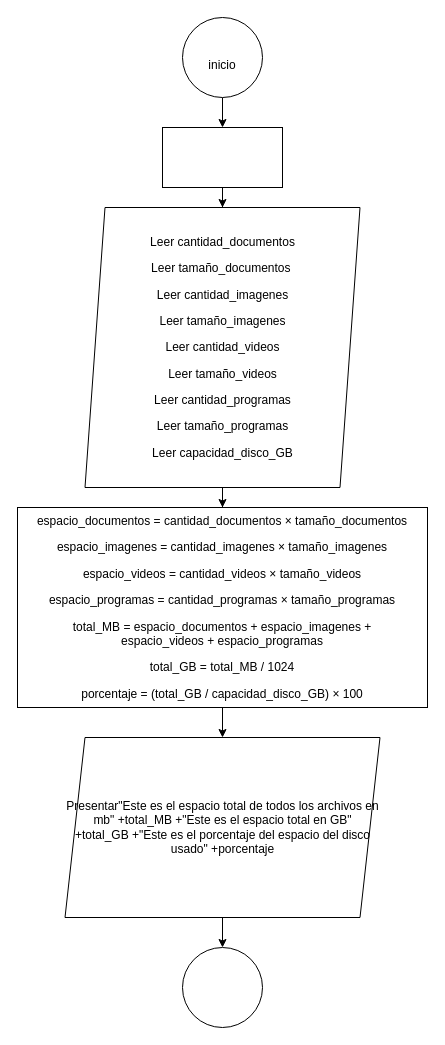
This 445x1045 diagram has some shape labels left out. Each missing label, with the box of its shape:
fin: (182, 946, 262, 1028)
GB_POR_MB = 1024: (162, 126, 282, 188)
